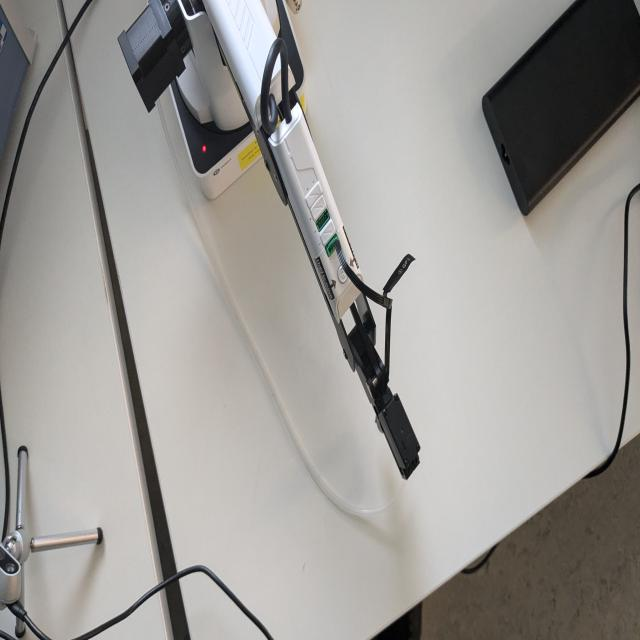Robot-end-effector-HF8z: (371, 389, 427, 484)
